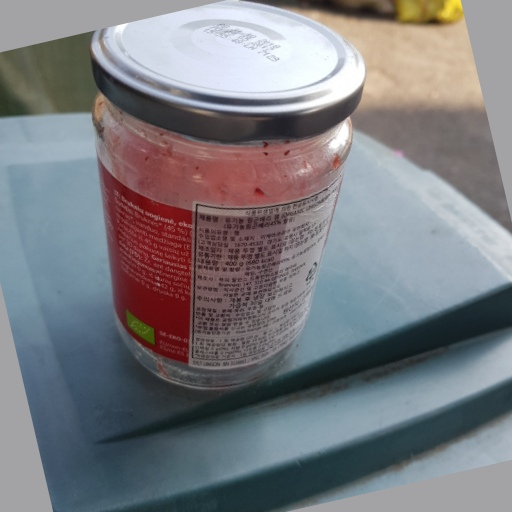Glass_5: (86, 3, 365, 394)
